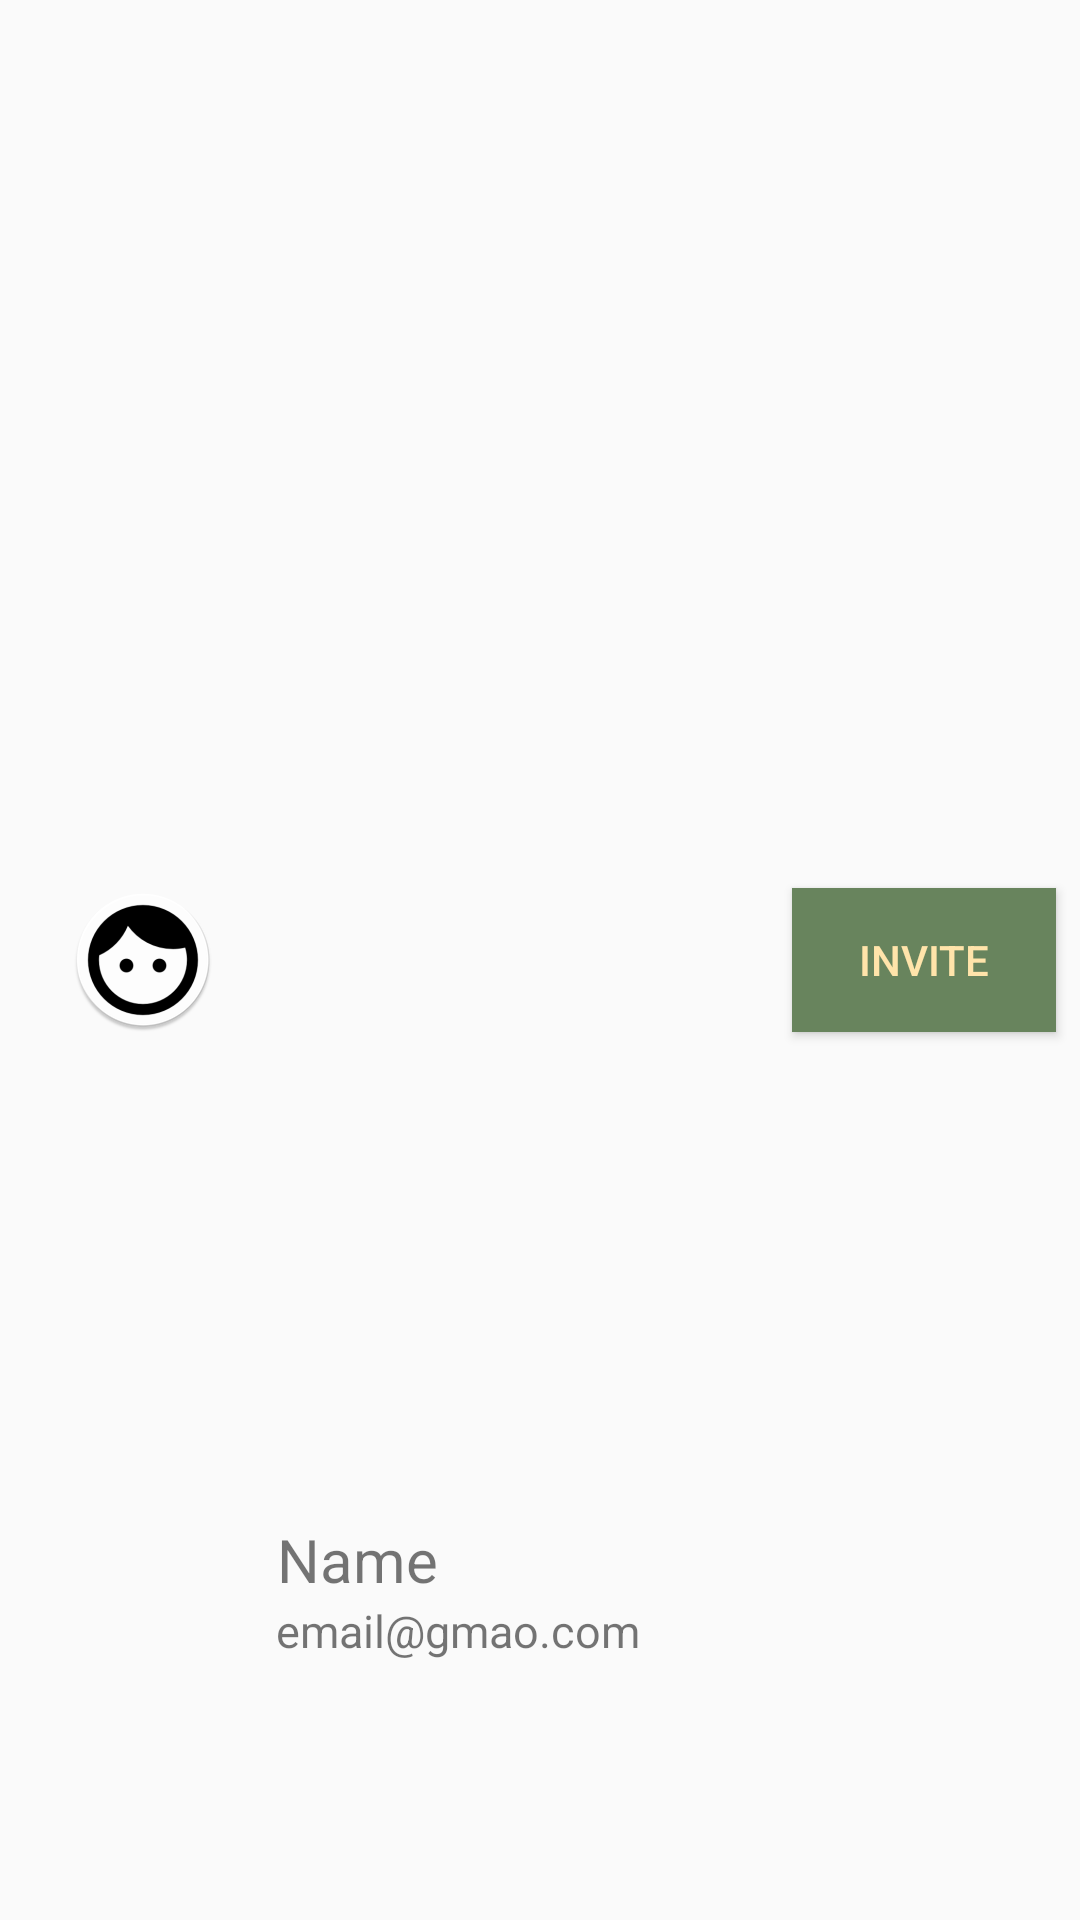

Where to tap for icons on this 1080x1920 app screen, as point (x, y):
iconface: point (144, 967)
